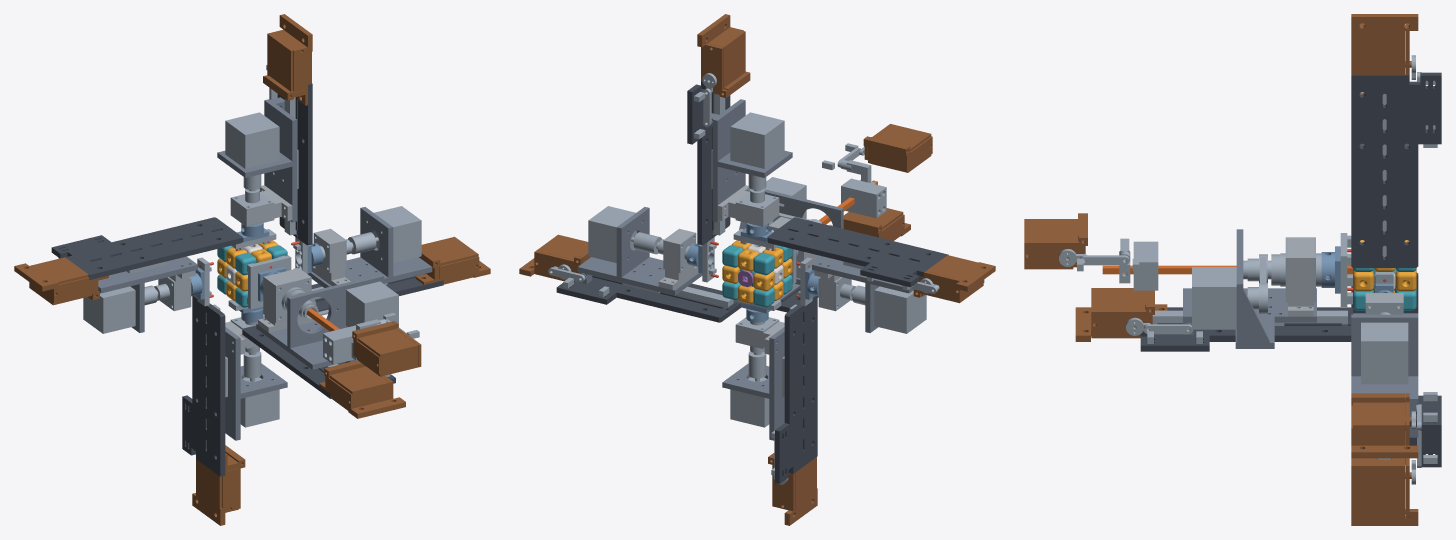
File: robot_assembly.glb
3 views of the same model, side by side, from view 1: azimuth 30°, elevation 25°; view 2: azimuth 150°, elevation 25°; view 3: azimuth 270°, elevation 25° (orthographic). The views are drawn at different scales.
Parts seen in each view (by area): view 1: B__rail_support, L__rail_support, D__carriage, F__servo_mount, F__carriage, D__servo_mount, R__carriage, LOCK__lock_servo_mount, F__motor_NEMA17, L__servo_mount, B__servo_mount, F__rail_support (+16 smaller); view 2: B__rail_support, L__rail_support, R__carriage, R__rail_support, F__carriage, F__rail_support, F__motor_NEMA17, LOCK__lock_servo_mount, B__carriage, F__servo_mount, L__motor_NEMA17, R__motor_NEMA17 (+18 smaller); view 3: F__rail_support, B__servo_mount, R__servo_mount, F__servo_mount, D__carriage, D__rail_support, R__motor_NEMA17, D__motor_NEMA17_offset, R__carriage, D__bearing_housing, D__servo_mount, LOCK__lock_servo_mount (+12 smaller).
Part boxes in pixels (x1,y1,x2,y2): B__rail_support: (182,295,225,476); L__rail_support: (51,217,242,279); D__carriage: (256,274,383,369); F__servo_mount: (265,14,312,105); F__carriage: (217,97,297,222); D__servo_mount: (319,360,405,418); R__carriage: (308,207,432,287); LOCK__lock_servo_mount: (352,322,417,376); F__motor_NEMA17: (225,112,279,168); L__servo_mount: (14,258,108,305); B__servo_mount: (192,445,245,525); F__rail_support: (277,83,312,245); B__rail_support: (775,295,817,483); L__rail_support: (767,217,948,287); R__carriage: (577,207,702,295); R__rail_support: (556,275,741,322); F__carriage: (703,99,792,222); F__rail_support: (687,81,730,245); F__motor_NEMA17: (730,112,784,168); LOCK__lock_servo_mount: (867,124,932,172); B__carriage: (722,327,784,440); F__servo_mount: (697,14,750,96); L__motor_NEMA17: (874,286,926,333); R__motor_NEMA17: (588,206,637,262); F__rail_support: (1351,72,1441,267); B__servo_mount: (1351,458,1418,525); R__servo_mount: (1351,393,1418,458); F__servo_mount: (1351,14,1418,94); D__carriage: (1183,229,1316,348); D__rail_support: (1140,307,1352,351); R__motor_NEMA17: (1361,322,1408,384); D__motor_NEMA17_offset: (1192,267,1236,329); R__carriage: (1351,314,1418,416); D__bearing_housing: (1288,237,1313,316); D__servo_mount: (1075,288,1167,341); LOCK__lock_servo_mount: (1024,213,1087,267).
Bounding box in the file's own units: 553 × 553 × 374.
